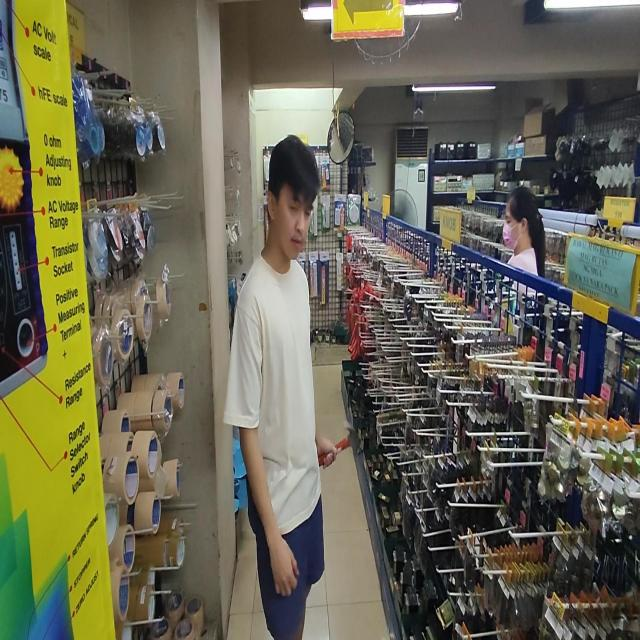hammer: (318, 422, 360, 467)
